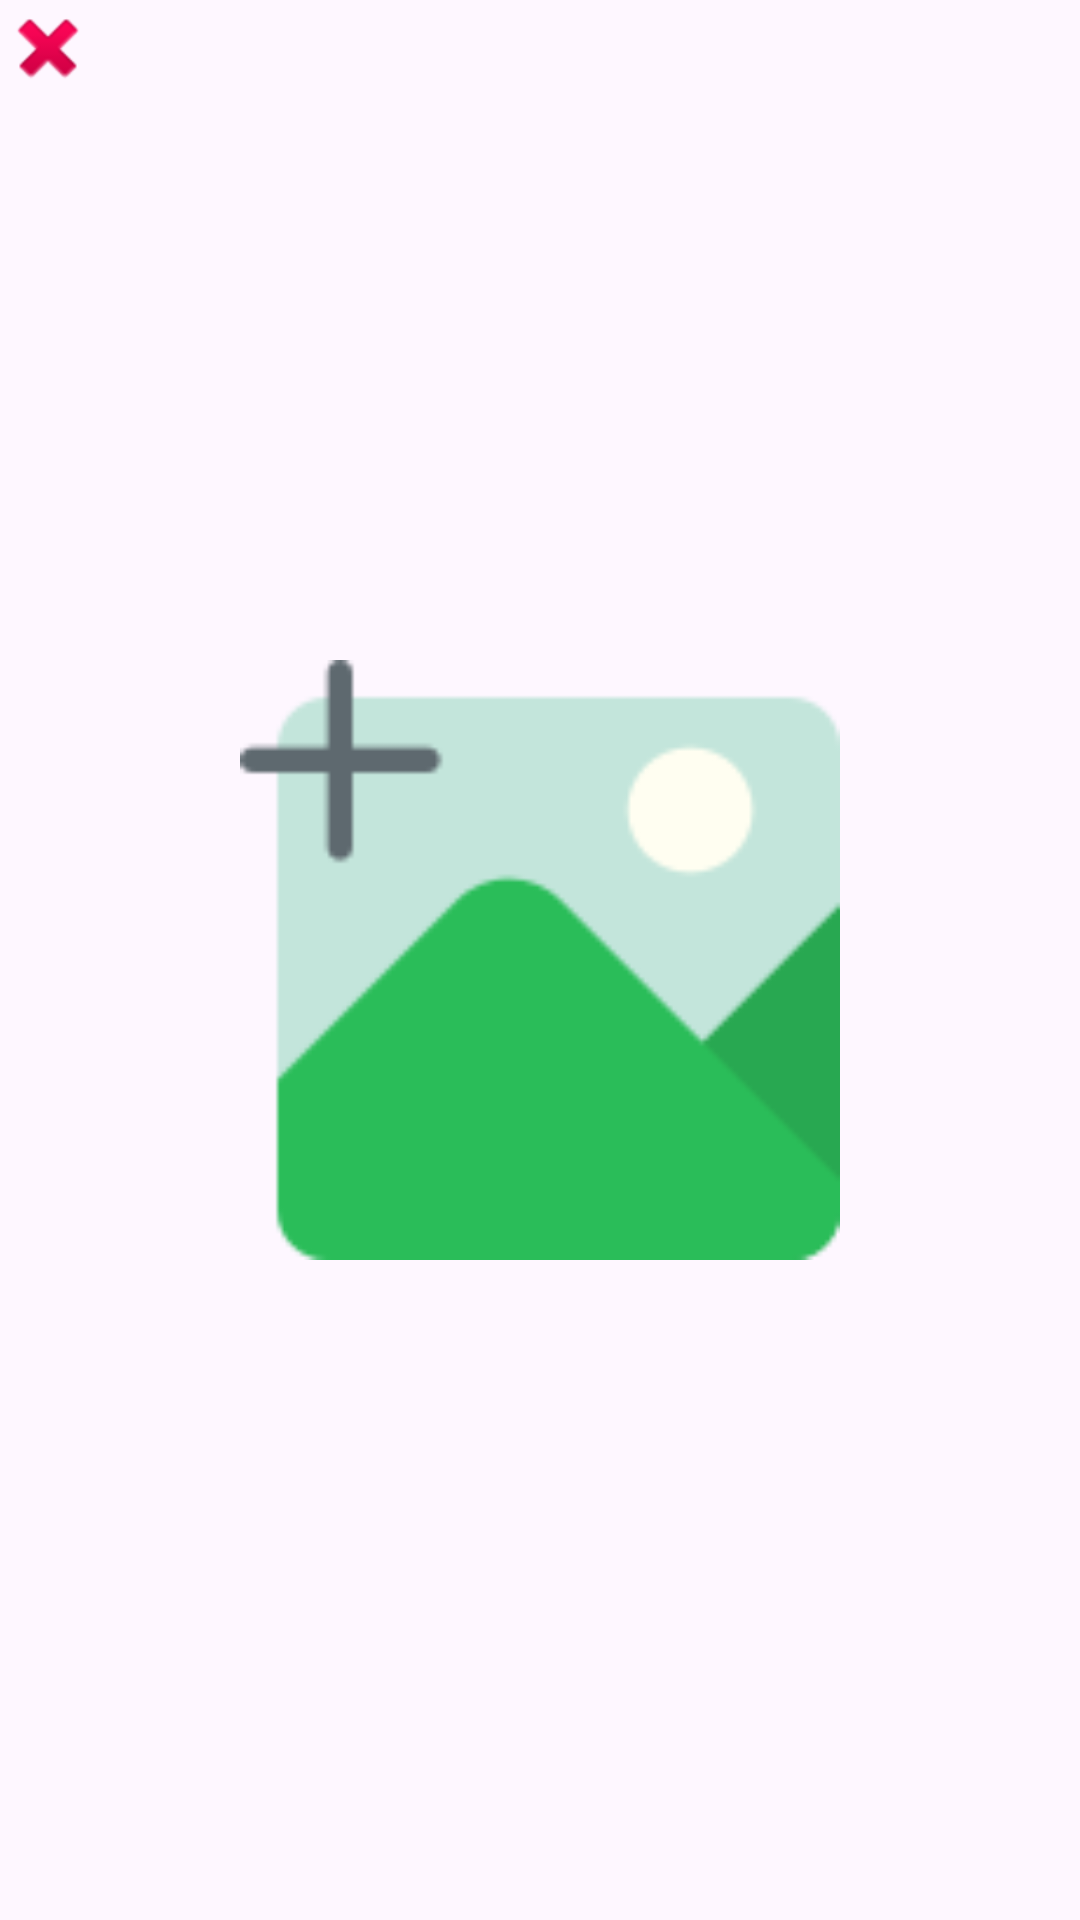

Point at icon controls on the screen. Image size 1080 × 1920, points as point (x, y).
Close: point (48, 48)
